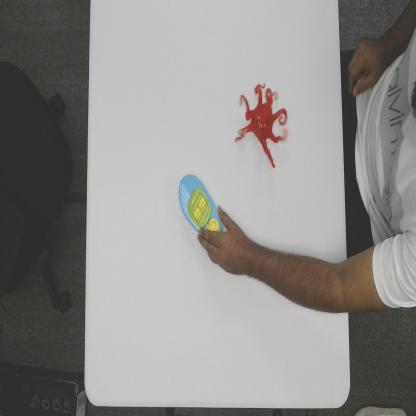Arm: (255, 241, 416, 319)
Boat: (178, 172, 224, 232)
Hand: (196, 205, 256, 279)
Octopus: (235, 80, 288, 169)
